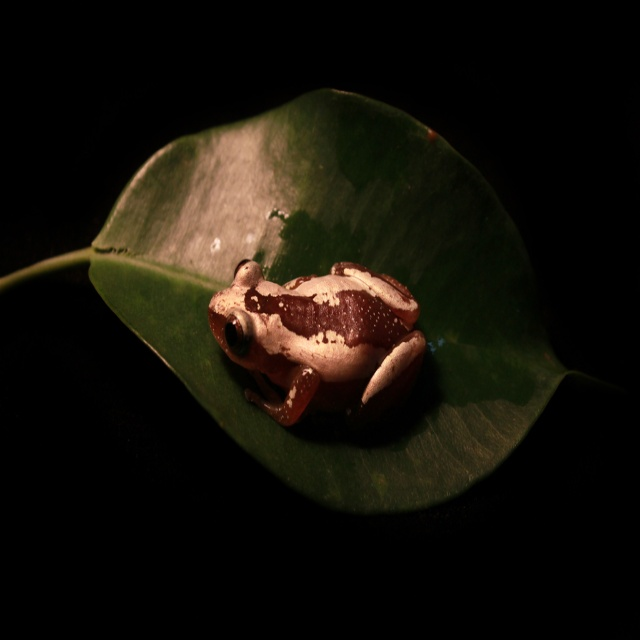Frog: (208, 260, 429, 426)
